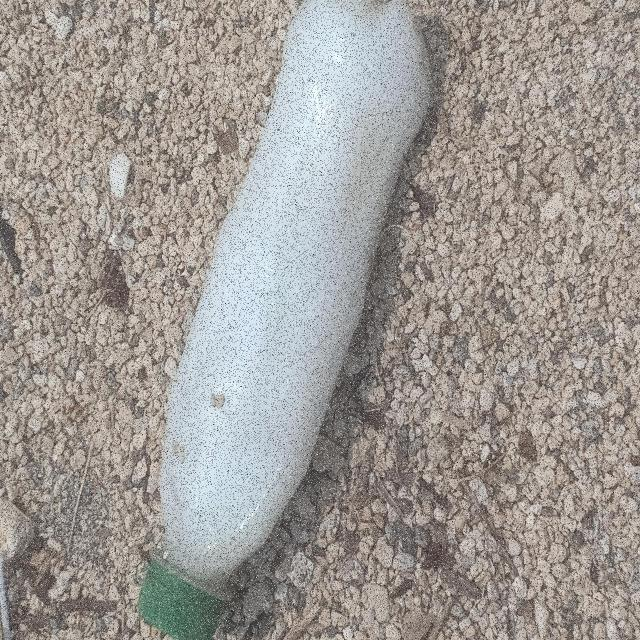plastic_waste: (137, 3, 437, 640)
